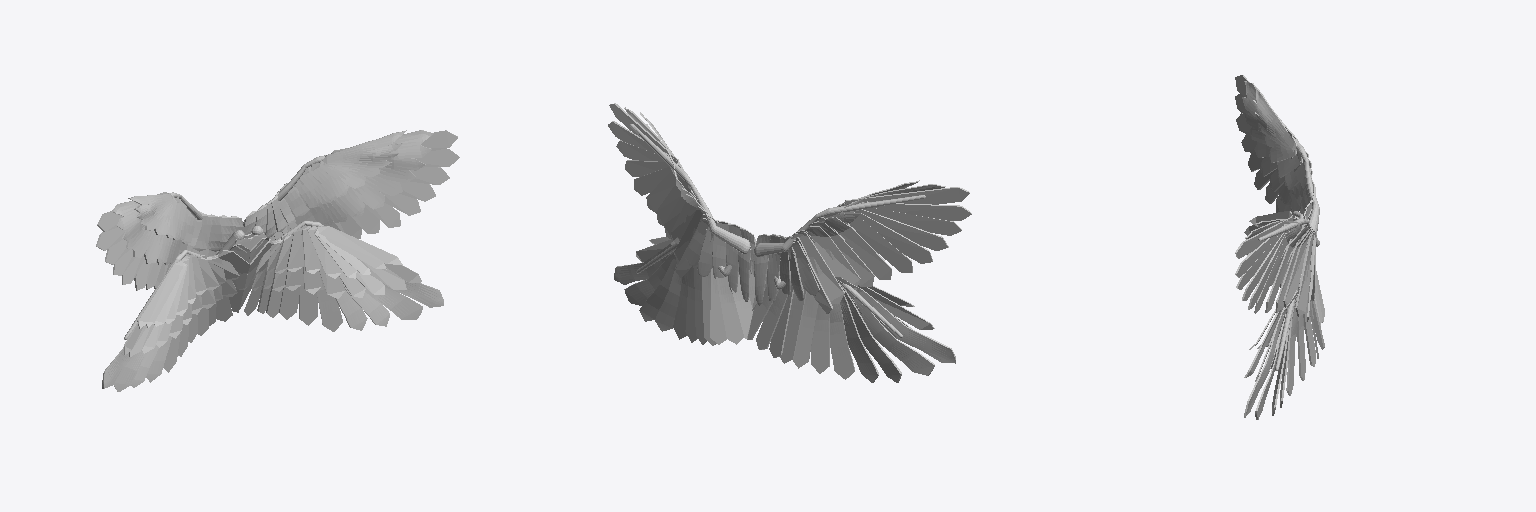
Rendered from Efim wing 3.OBJ.
3 views of the same model, side by side, from view 1: azimuth 30°, elevation 25°; view 2: azimuth 150°, elevation 25°; view 3: azimuth 270°, elevation 25° (orthographic).
Parts seen in each view (by area): view 1: Group31652, Group15901, Group44708, Group46776, Group15924, Group62905, Group15925, Group30646, Group13497, Group63919, Group15922, Group14515 (+28 smaller); view 2: Group28422, Group15914, Group15924, Group15925, Group15922, Group15923, Group15921, Group15915, Group30490, Group15920, Group31500, Group15919 (+18 smaller); view 3: Group28422, Group31652, Group62905, Group15925, Group15366, Group46619, Group44708, Group13497, Group63765, Group30490, Group14360, Group47633 (+2 smaller).
Part boxes in pixels (left/top/right/bottom): Group31652: left=112, top=130, right=433, bottom=216; Group15901: left=137, top=226, right=402, bottom=328; Group44708: left=170, top=180, right=332, bottom=263; Group46776: left=144, top=161, right=384, bottom=263; Group15924: left=114, top=287, right=422, bottom=391; Group62905: left=157, top=166, right=364, bottom=264; Group15925: left=102, top=281, right=443, bottom=388; Group30646: left=133, top=165, right=402, bottom=257; Group13497: left=164, top=167, right=347, bottom=264; Group63919: left=122, top=153, right=425, bottom=240; Group15922: left=146, top=290, right=367, bottom=382; Group14515: left=126, top=160, right=415, bottom=249; Group28422: left=671, top=192, right=860, bottom=303; Group15914: left=710, top=268, right=793, bottom=357; Group15924: left=624, top=242, right=934, bottom=375; Group15925: left=614, top=237, right=955, bottom=363; Group15922: left=655, top=264, right=878, bottom=382; Group15923: left=639, top=256, right=901, bottom=382; Group15921: left=673, top=272, right=854, bottom=379; Group15915: left=716, top=276, right=787, bottom=349; Group30490: left=646, top=171, right=912, bottom=272; Group15920: left=685, top=266, right=829, bottom=373; Group31500: left=608, top=121, right=971, bottom=220; Group15919: left=693, top=265, right=818, bottom=368; Group28422: left=1283, top=171, right=1315, bottom=316; Group31652: left=1244, top=81, right=1301, bottom=239; Group62905: left=1269, top=151, right=1308, bottom=285; Group15925: left=1244, top=254, right=1299, bottom=417; Group15366: left=1235, top=75, right=1293, bottom=258; Group46619: left=1265, top=151, right=1301, bottom=312; Group44708: left=1288, top=169, right=1315, bottom=287; Group13497: left=1279, top=160, right=1311, bottom=287; Group63765: left=1241, top=134, right=1284, bottom=300; Group30490: left=1254, top=157, right=1292, bottom=313; Group14360: left=1248, top=153, right=1285, bottom=309; Group47633: left=1236, top=113, right=1283, bottom=289.
Bounding box in the file's own units: 46.33 × 24.52 × 9.98.